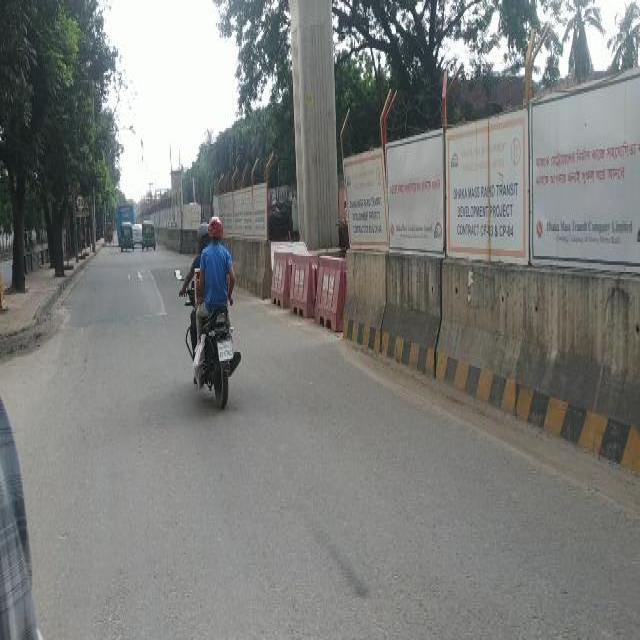bike: (173, 215, 247, 416)
vehicle: (142, 220, 157, 252), (120, 222, 134, 254), (105, 221, 115, 247)
